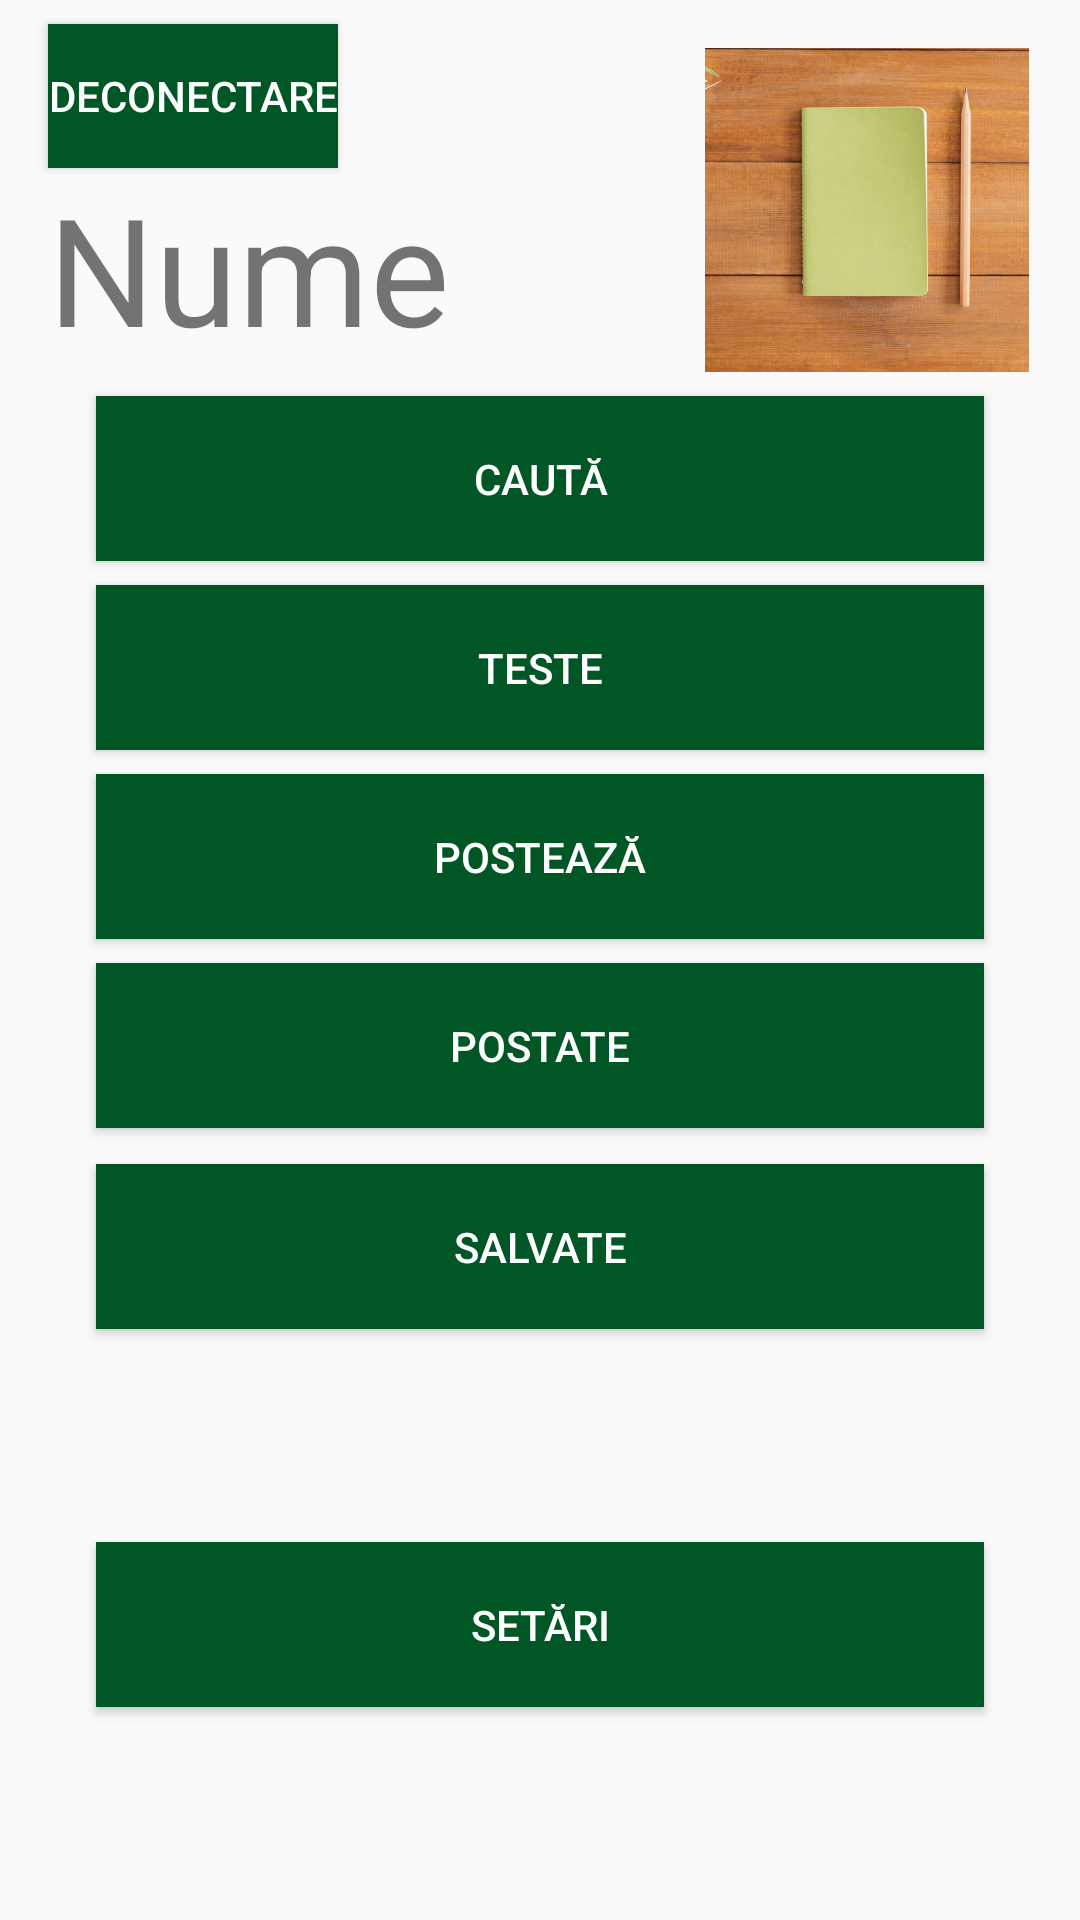

Icons on this 1080w x 1920h Android screen, each with the point to tap as (x=x, y=y):
design: (x=867, y=210)
